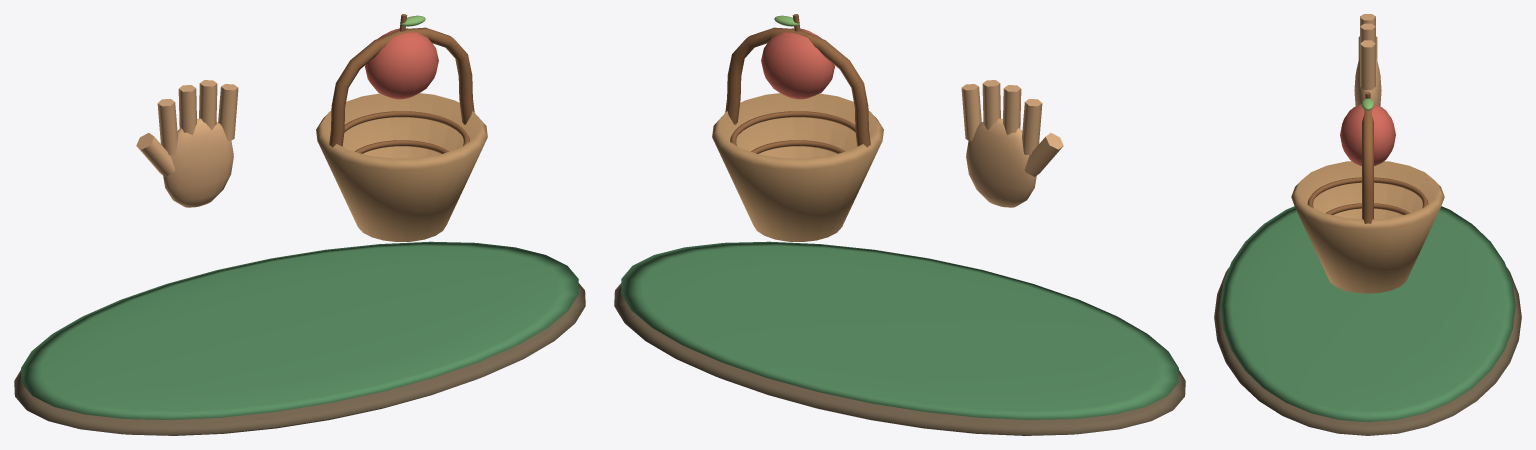
Rendered from complete-second-lift-supply.glb.
3 renders of one model, left to right at view 1: azimuth 30°, elevation 25°; view 2: azimuth 150°, elevation 25°; view 3: azimuth 270°, elevation 25°, orthographic. The views are drawn at different scales.
Parts seen in each view (by area): view 1: complete-second-lift-supply_surface_01, complete-second-lift-supply_surface_03, complete-second-lift-supply_surface_00, complete-second-lift-supply_surface_02, complete-second-lift-supply_surface_04, complete-second-lift-supply_surface_05; view 2: complete-second-lift-supply_surface_01, complete-second-lift-supply_surface_03, complete-second-lift-supply_surface_00, complete-second-lift-supply_surface_02, complete-second-lift-supply_surface_04, complete-second-lift-supply_surface_05; view 3: complete-second-lift-supply_surface_01, complete-second-lift-supply_surface_03, complete-second-lift-supply_surface_00, complete-second-lift-supply_surface_04, complete-second-lift-supply_surface_05, complete-second-lift-supply_surface_02.
Part boxes in pixels (left/top/right/bottom): complete-second-lift-supply_surface_01: left=21, top=241, right=578, bottom=419; complete-second-lift-supply_surface_03: left=316, top=93, right=487, bottom=241; complete-second-lift-supply_surface_00: left=14, top=283, right=585, bottom=435; complete-second-lift-supply_surface_02: left=136, top=80, right=238, bottom=207; complete-second-lift-supply_surface_04: left=329, top=14, right=474, bottom=153; complete-second-lift-supply_surface_05: left=365, top=28, right=438, bottom=99; complete-second-lift-supply_surface_01: left=621, top=241, right=1178, bottom=419; complete-second-lift-supply_surface_03: left=712, top=93, right=883, bottom=241; complete-second-lift-supply_surface_00: left=614, top=283, right=1185, bottom=435; complete-second-lift-supply_surface_02: left=961, top=80, right=1063, bottom=207; complete-second-lift-supply_surface_04: left=725, top=14, right=870, bottom=153; complete-second-lift-supply_surface_05: left=761, top=28, right=834, bottom=99; complete-second-lift-supply_surface_01: left=1220, top=206, right=1515, bottom=422; complete-second-lift-supply_surface_03: left=1291, top=161, right=1444, bottom=293; complete-second-lift-supply_surface_00: left=1214, top=267, right=1521, bottom=435; complete-second-lift-supply_surface_04: left=1307, top=92, right=1428, bottom=223; complete-second-lift-supply_surface_05: left=1340, top=104, right=1395, bottom=166; complete-second-lift-supply_surface_02: left=1354, top=14, right=1381, bottom=106.
Bounding box in the file's own units: 4.56 × 2.55 × 2.5.
